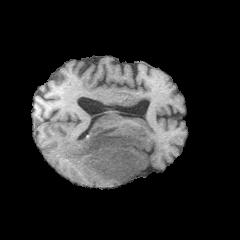glioma: (56, 126, 156, 182)
